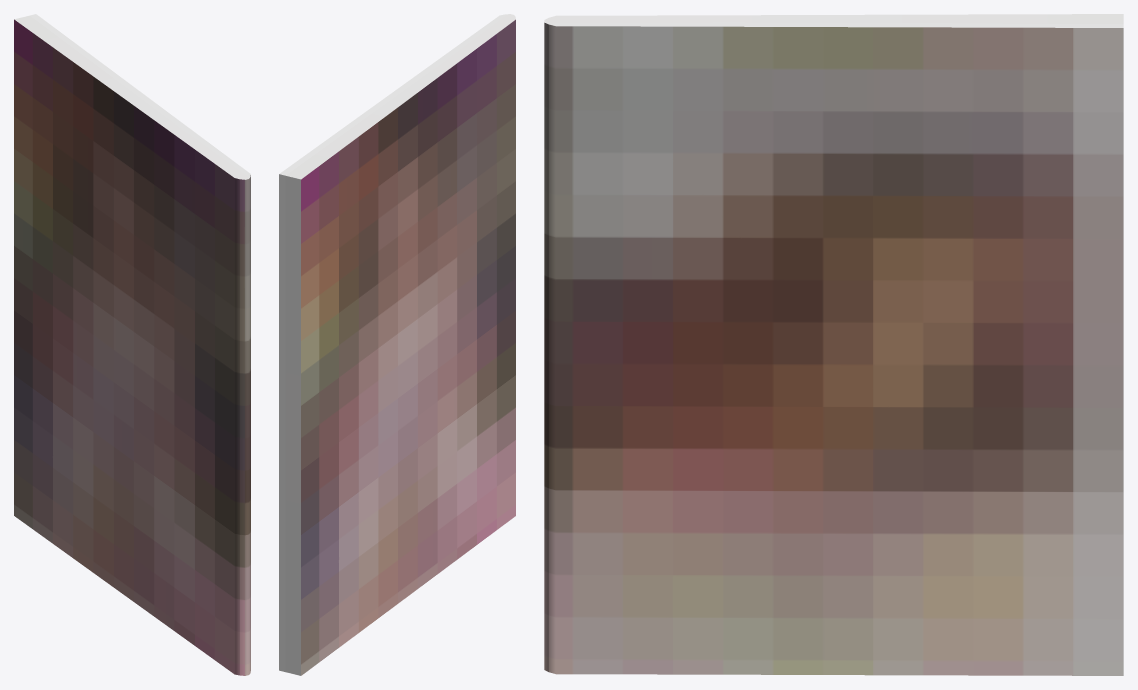
Rendered from erotsu3.fbx.
3 views of the same model, side by side, from view 1: azimuth 30°, elevation 25°; view 2: azimuth 150°, elevation 25°; view 3: azimuth 270°, elevation 25° (orthographic). The views are drawn at different scales.
Visible parts, largest first — view 1: erotsu3; view 2: erotsu3; view 3: erotsu3.
Part boxes in pixels (bbox=[...]): erotsu3: bbox=[14, 14, 250, 675]; erotsu3: bbox=[279, 14, 515, 675]; erotsu3: bbox=[544, 14, 1123, 675].
Bounding box in the file's own units: 1.2 × 25.8 × 20.92.
